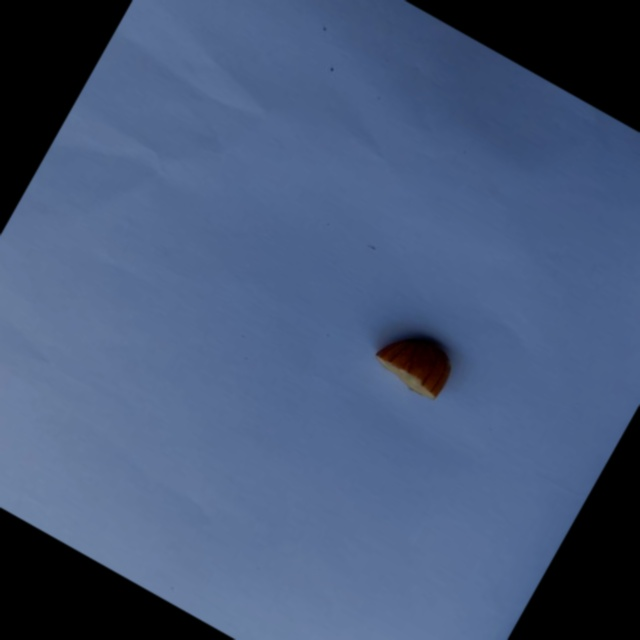grade4: (360, 312, 469, 411)
